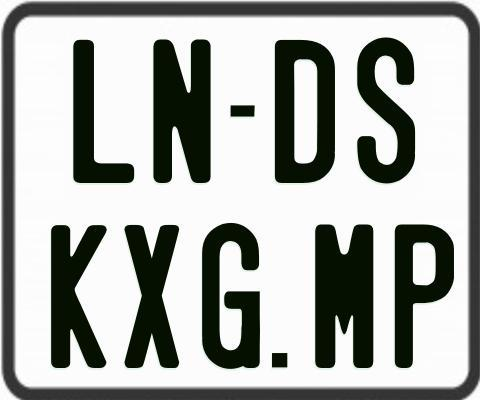D: (274, 37, 340, 181)
G: (201, 223, 263, 375)
K: (50, 223, 109, 372)
L: (73, 40, 135, 188)
M: (315, 222, 374, 371)
N: (152, 37, 216, 183)
P: (394, 222, 459, 368)
S: (354, 37, 413, 188)
X: (124, 224, 183, 371)
